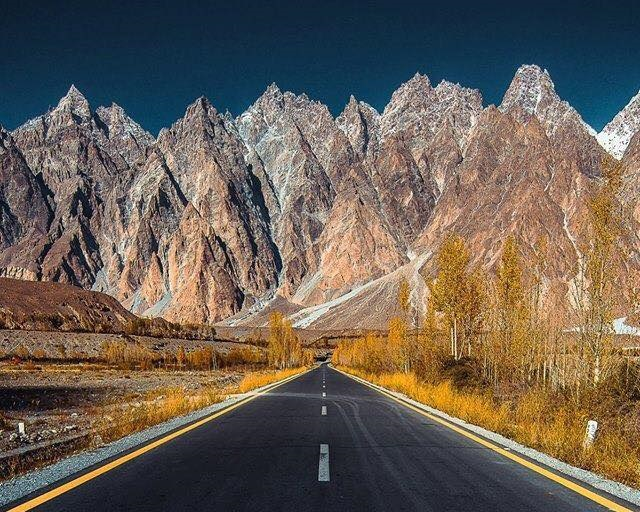straightRoad: (228, 345, 465, 512)
